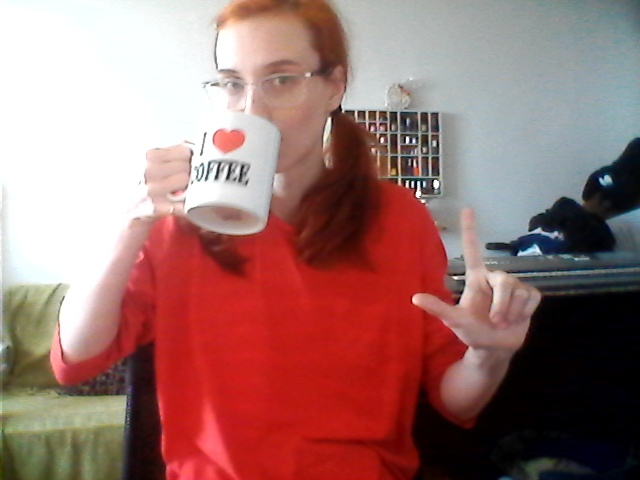l: (410, 203, 548, 355)
